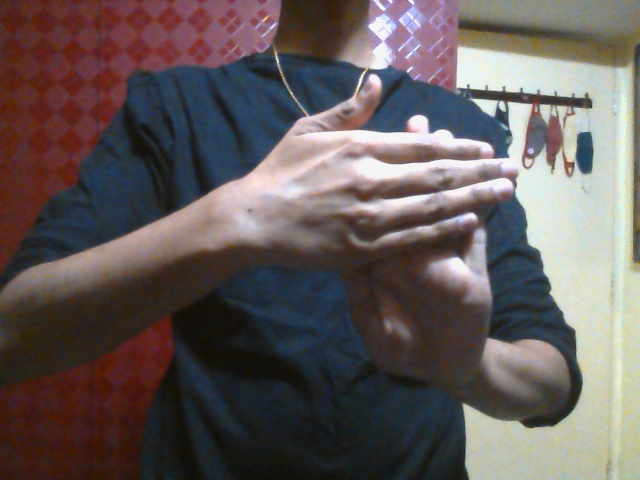H: (273, 75, 522, 384)
